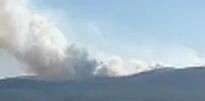yanwu: (0, 1, 203, 81)
